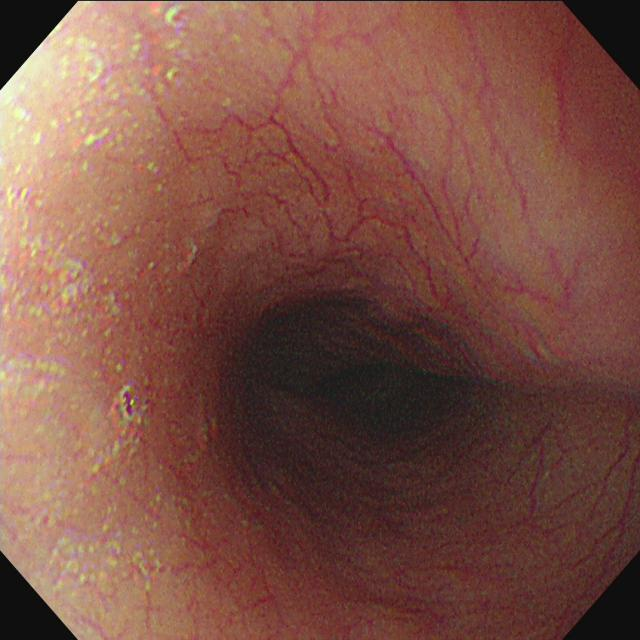T: (122, 387, 138, 421)
